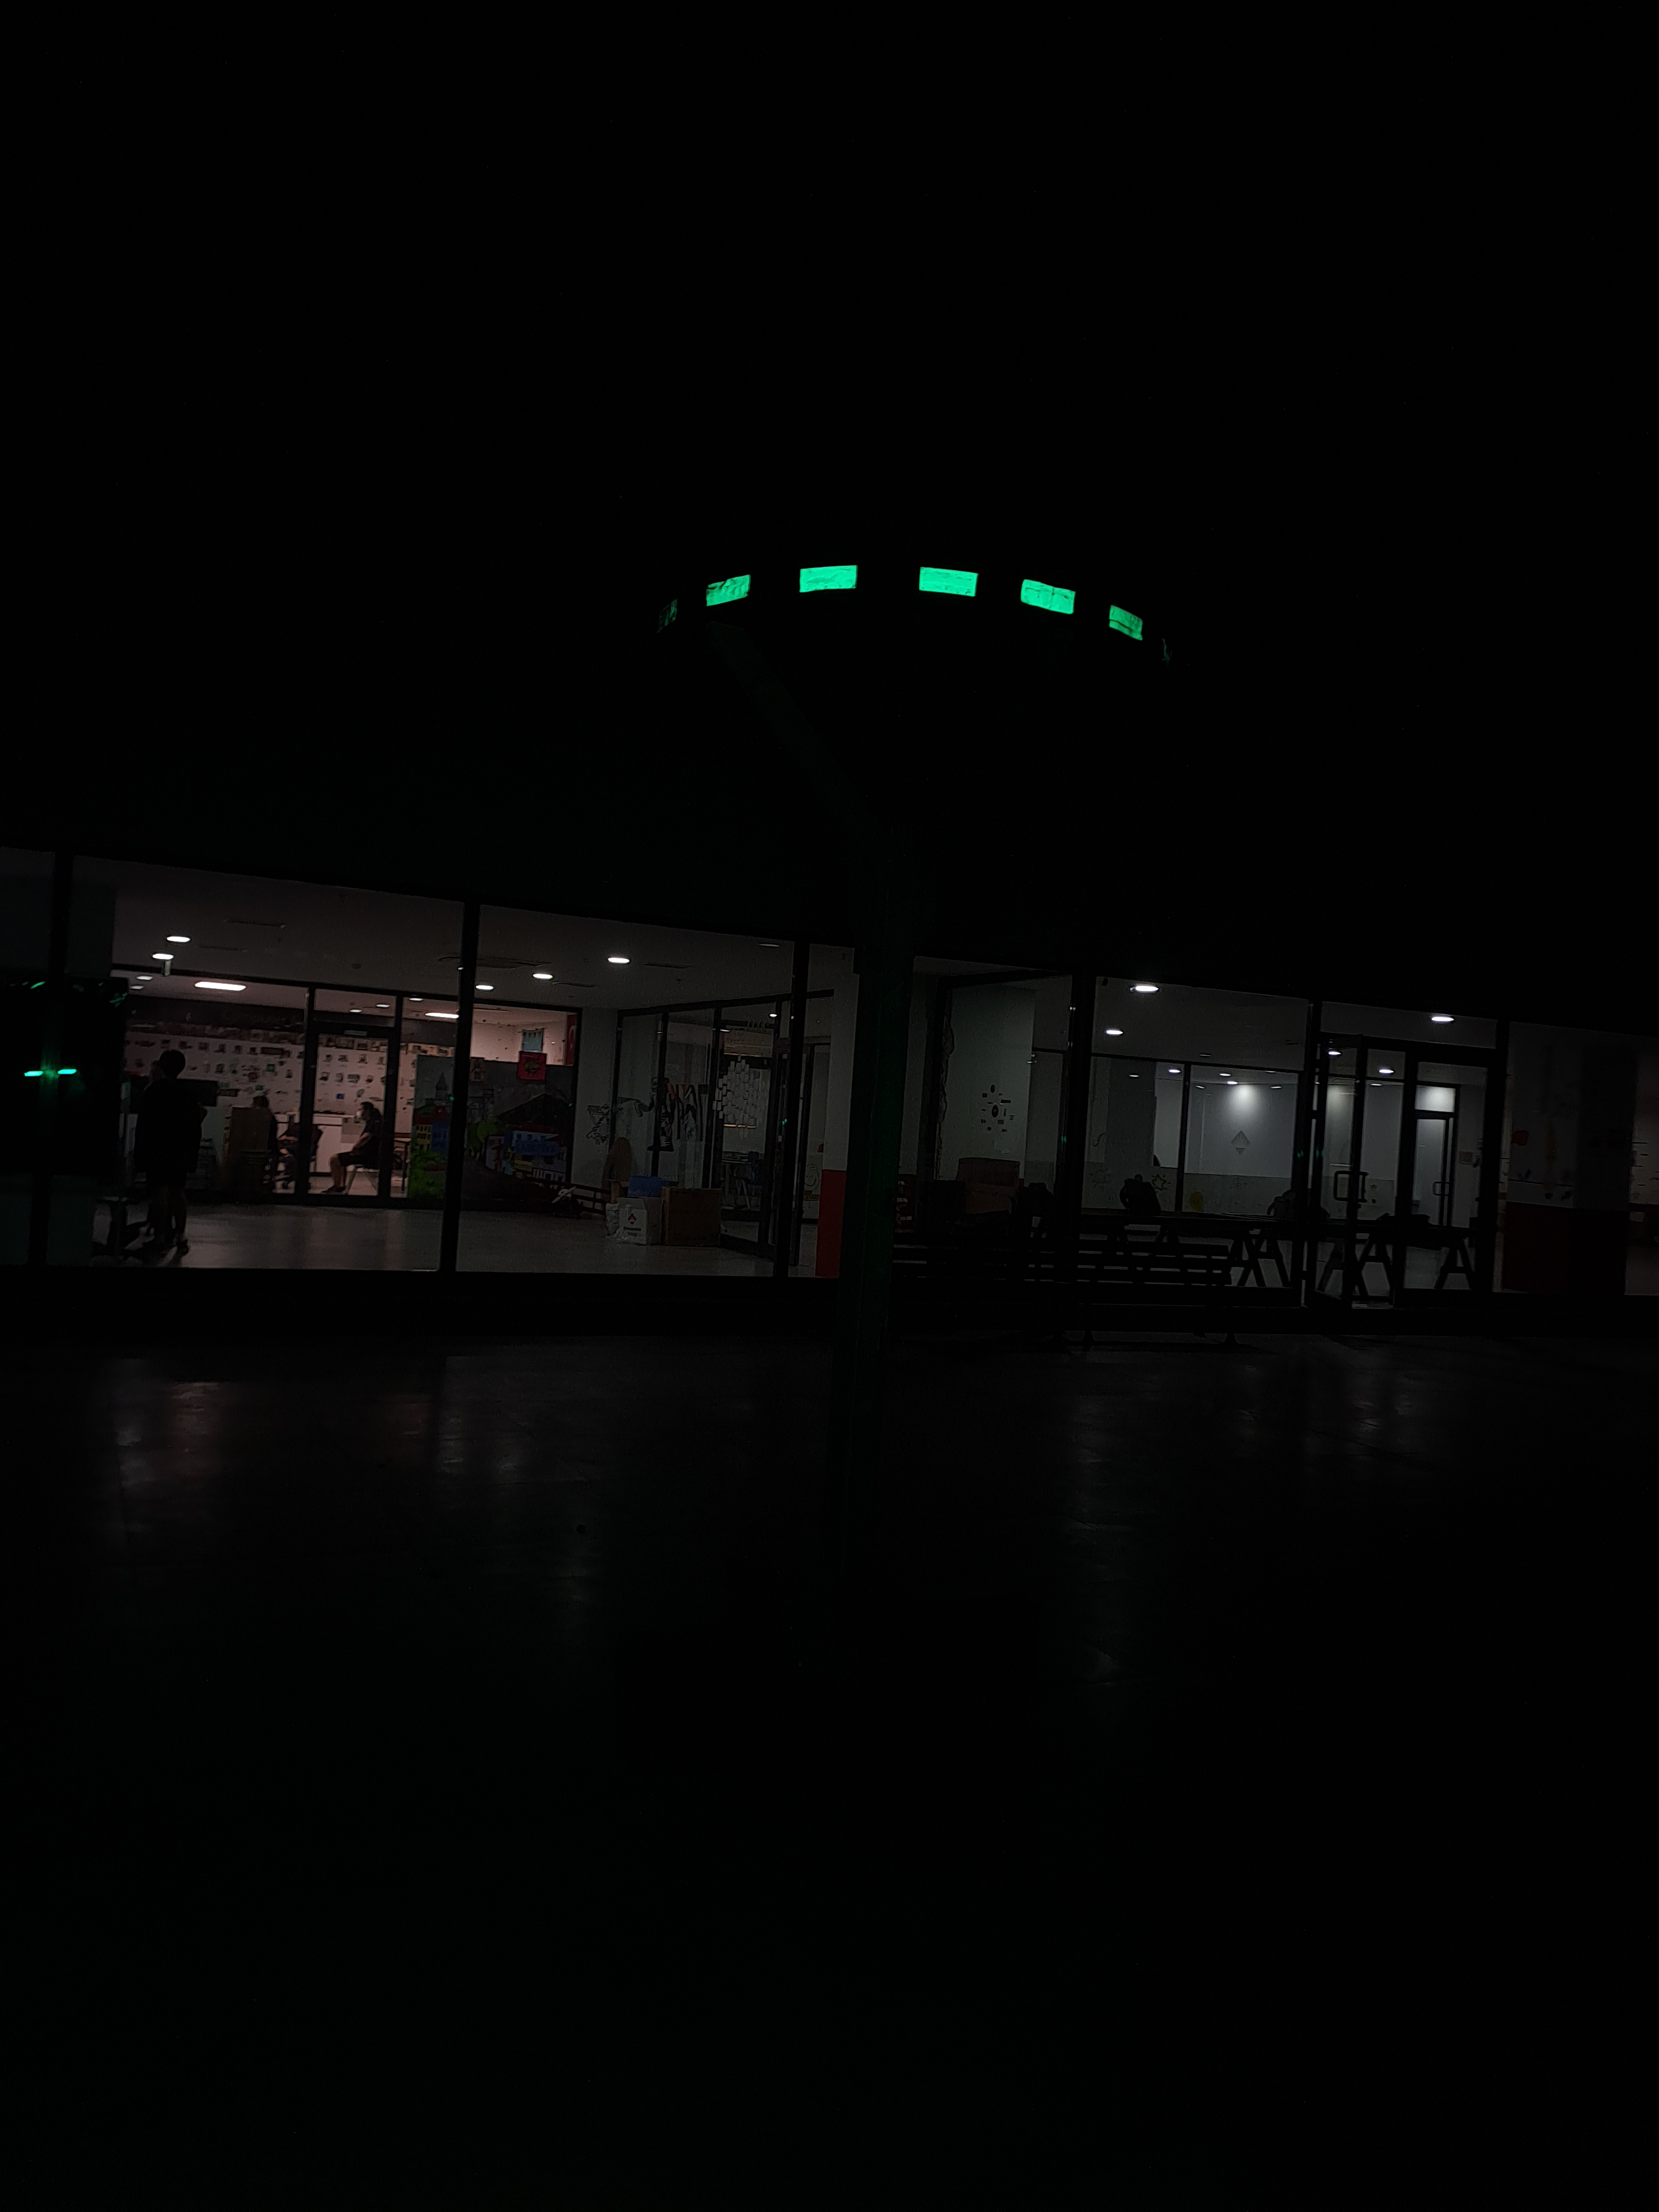hoop: (701, 554, 1147, 662)
